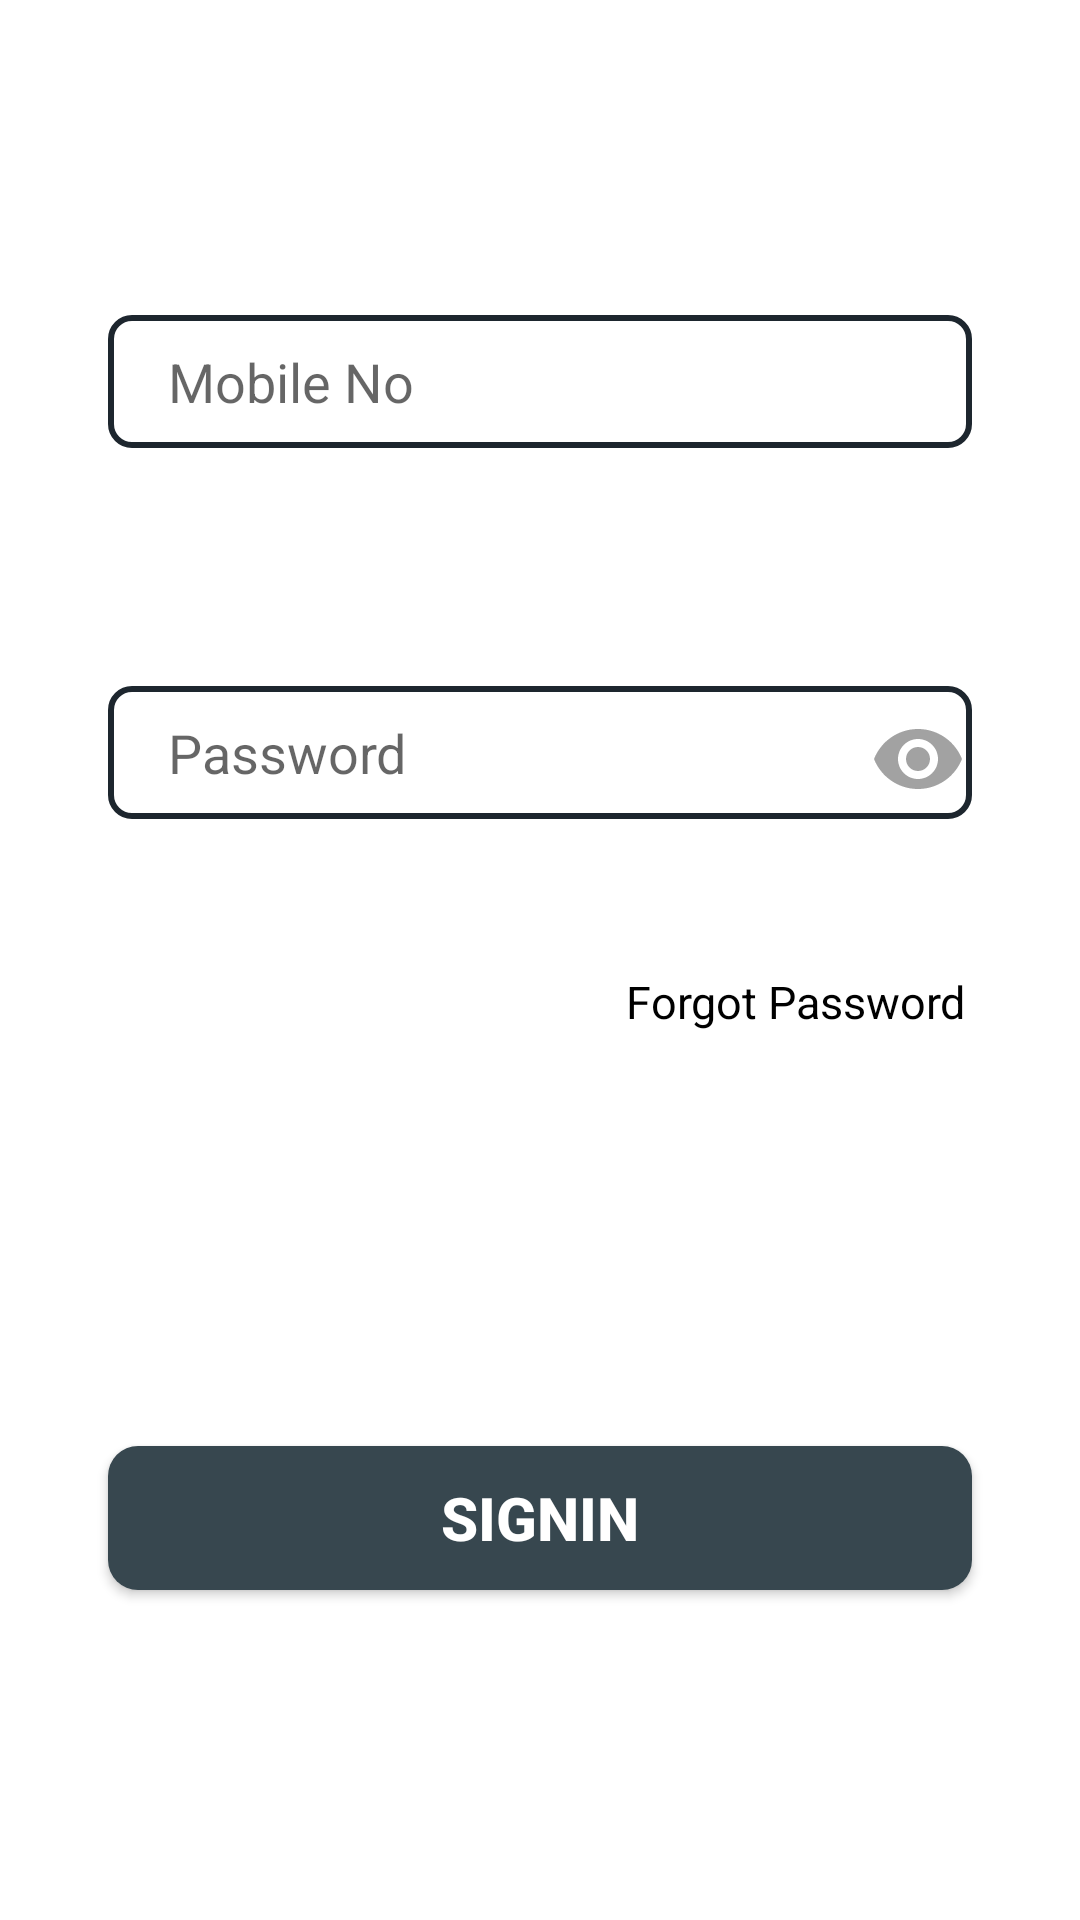

Point at icon controls on the screen. Image size 1080*1920, points as point (x, y).
remove eye: point (918, 759)
